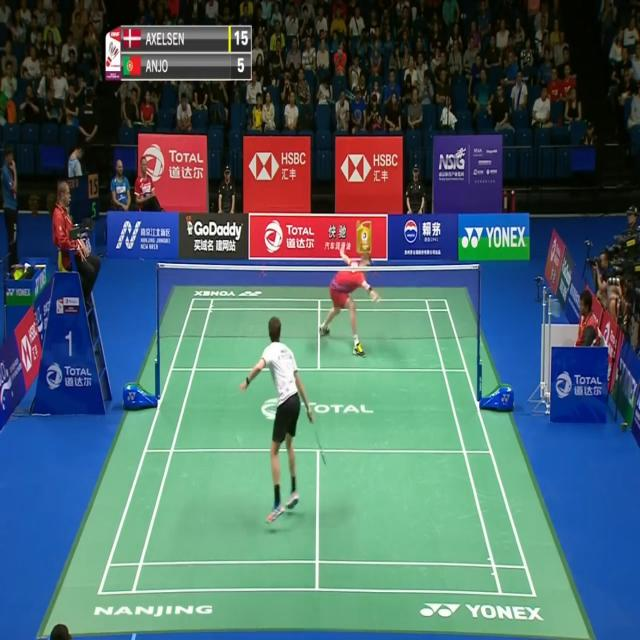Player1: (237, 310, 321, 542)
Player2: (318, 227, 382, 361)
